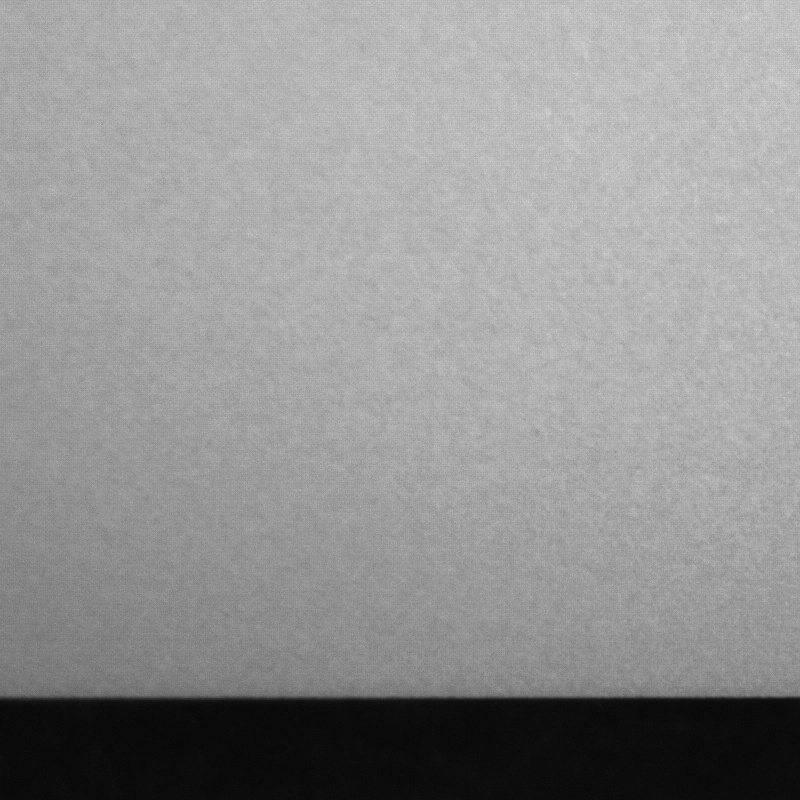defect: (528, 419, 545, 445)
